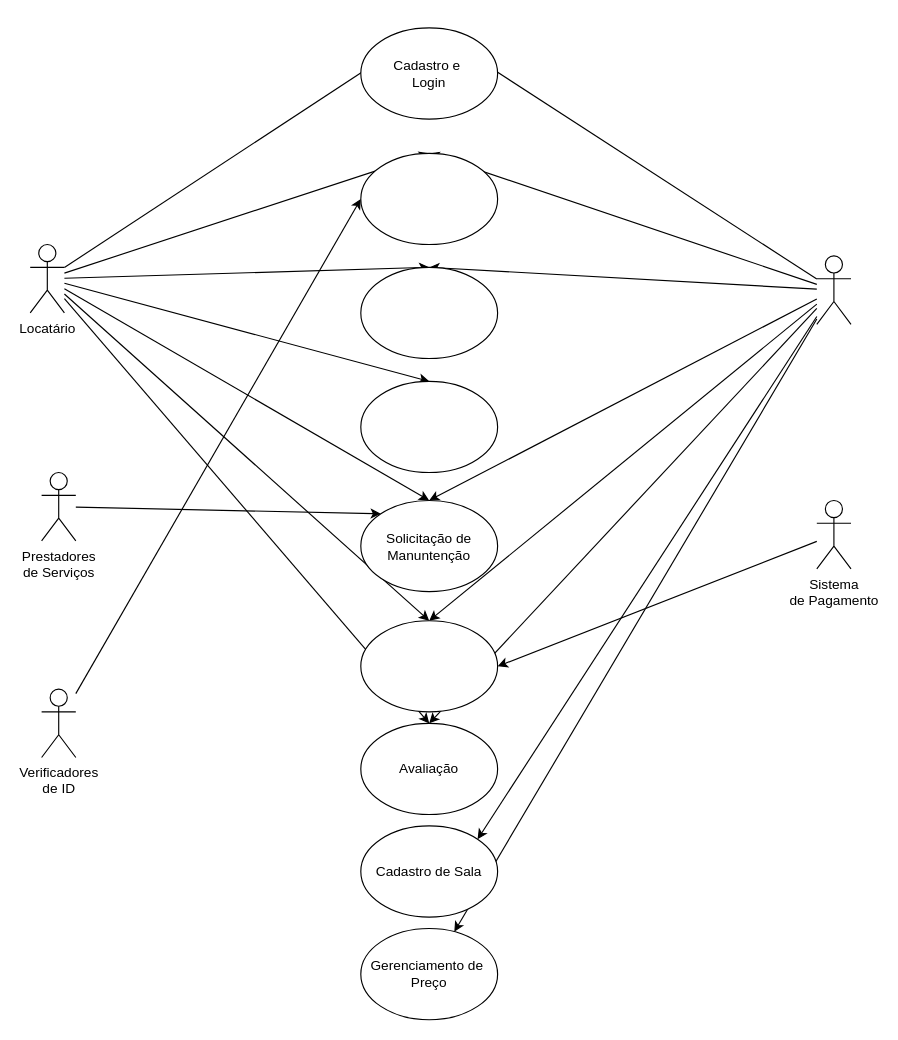
Image size: 898x1040. Some labels were removed from this diagram. Each missing label, with the box of its shape:
Acesso à Sala: (360, 380, 498, 473)
Locador: (816, 255, 851, 324)
Pagamento e Faturamento: (360, 620, 498, 712)
Reserva de Sala: (360, 266, 498, 359)
Verificação de ID: (360, 152, 498, 245)
